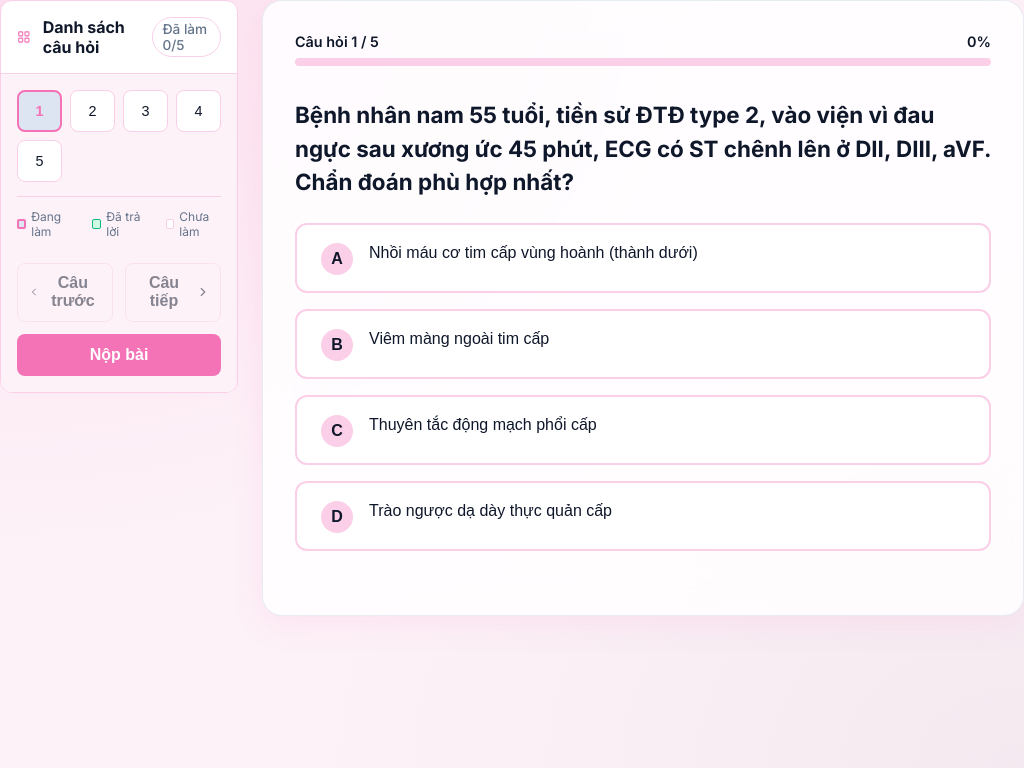
it: Tier 1: QuizInterface Component › Milestone 2 Features (F10, F11, F12) › F11: supports bidirectional navigation via "Câu trước" button to revisit previous questions
This screenshot has width=1024, height=768.
Expected: the button "Câu trước" is disabled, [17,263,113,322]
Answer question 1 and advance to question 2
Click the radio button "Nhồi máu cơ tim cấp vùng hoành (thành dưới)". click: (643, 258)
box: [295,223,991,293]
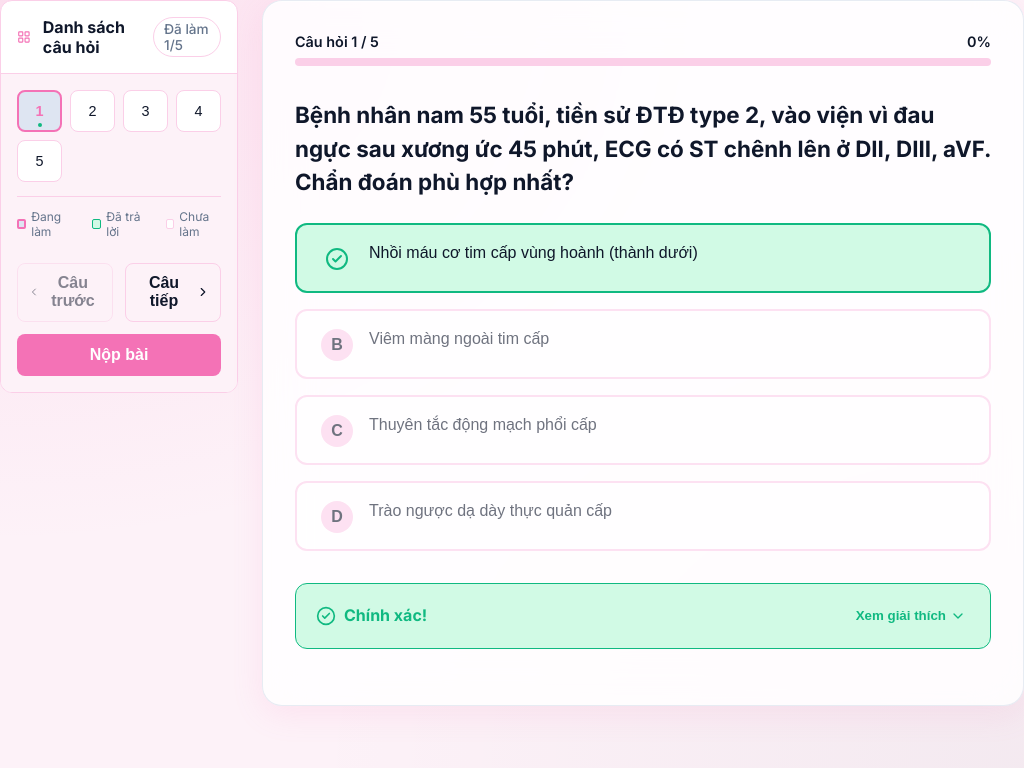
Click the button "Câu tiếp". click: (173, 292)
box: [125,263,221,322]
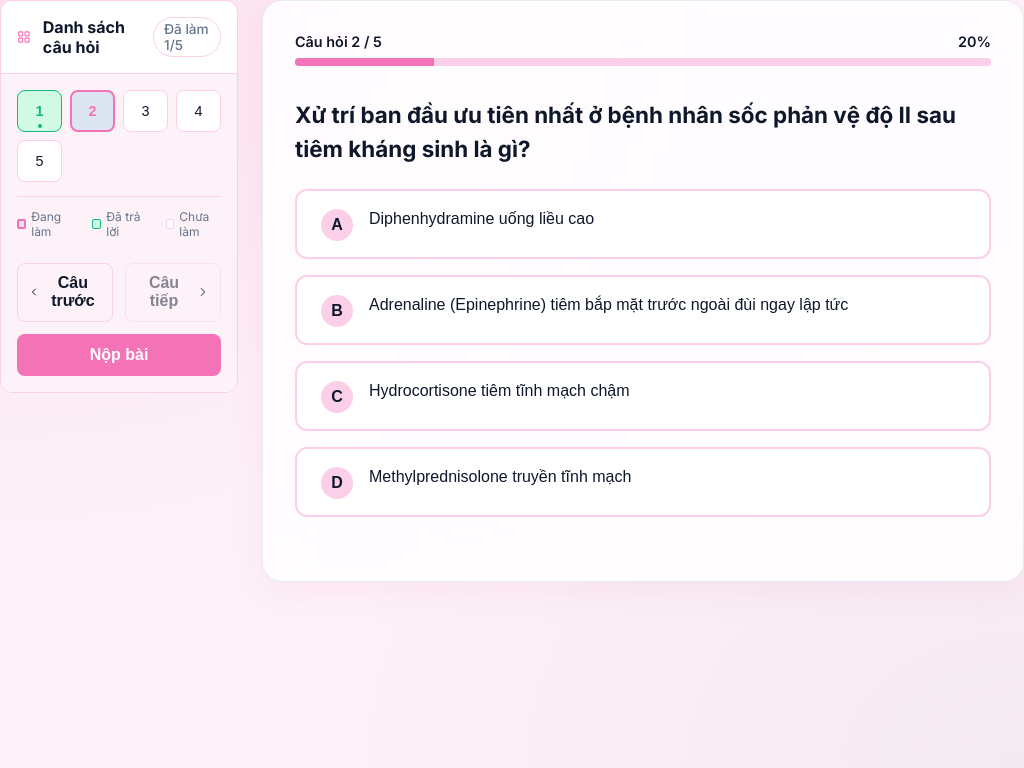
Now the text "Câu hỏi 2 / 5" is shown, box [295,33,382,50]
Click "Câu trước" to go back to question 1
Click the button "Câu trước". click: (65, 292)
box: [17,263,113,322]
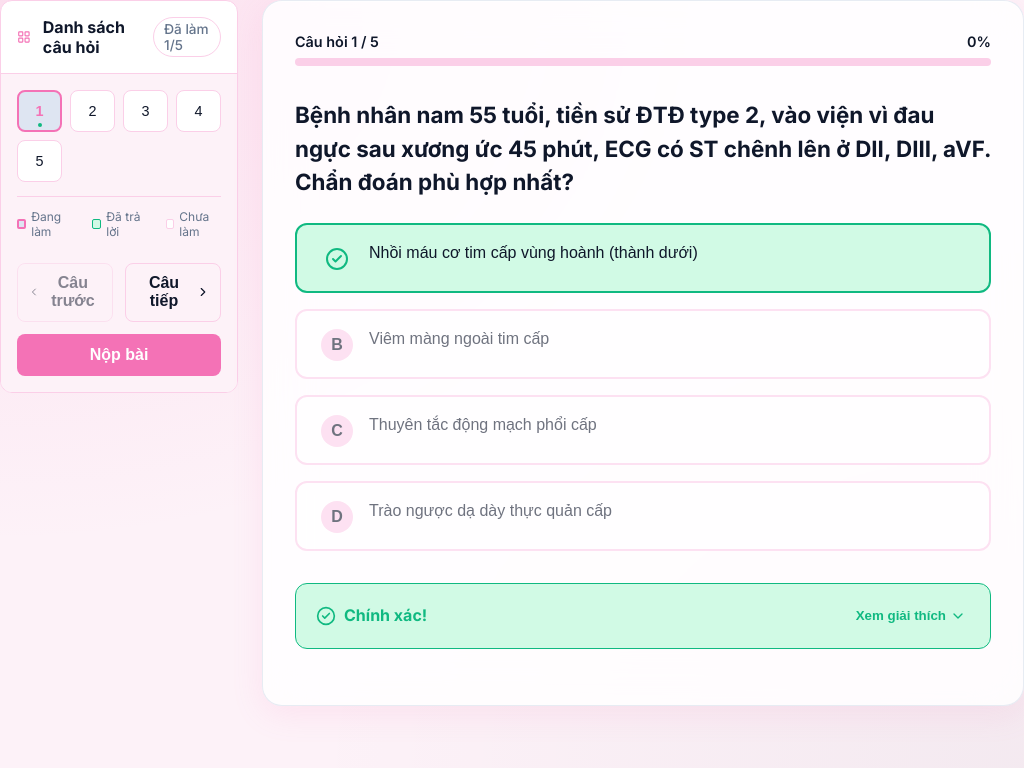
Now the text "Câu hỏi 1 / 5" is shown, box [295,33,379,50]
Now the heading "Bệnh nhân nam 55 tuổi, tiền sử ĐTĐ type 2, vào viện vì đau ngực sau xương ức 45 phút, ECG có ST chênh lên ở DII, DIII, a" is shown, box [295,101,991,195]
